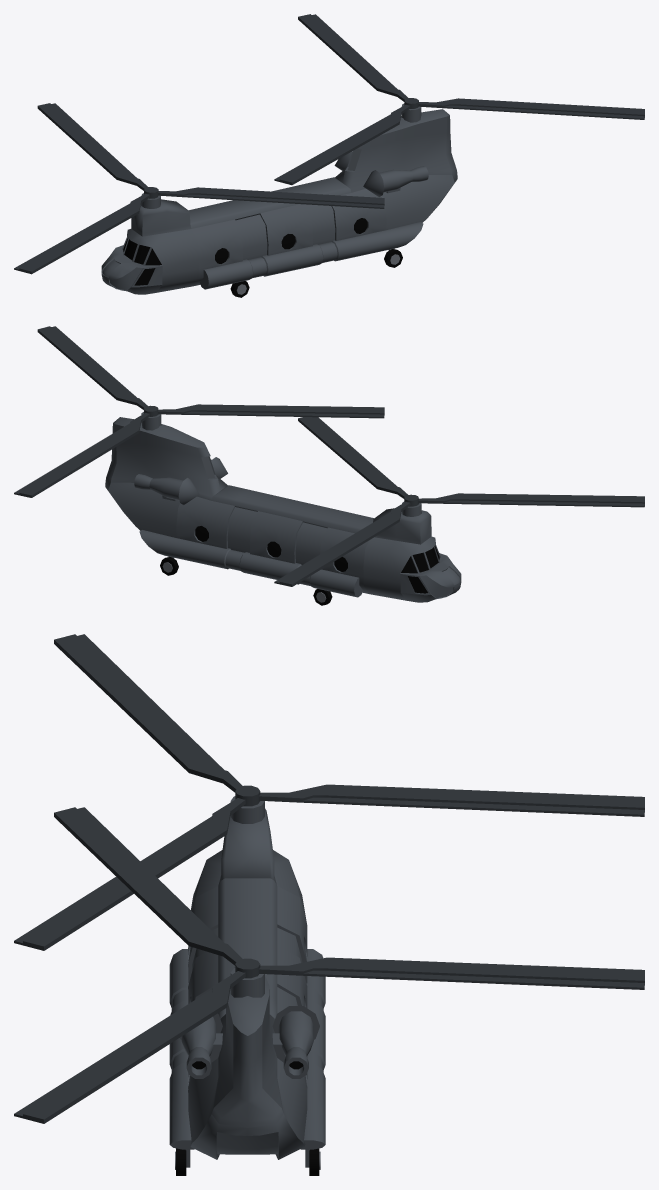
Rendered from helicopter.fbx.
3 renders of one model, top to bottom at view 1: azimuth 30°, elevation 25°; view 2: azimuth 150°, elevation 25°; view 3: azimuth 270°, elevation 25°, orthographic. The views are drawn at different scales.
Parts seen in each view (by area): view 1: Cube.002, Cylinder, Cylinder.003; view 2: Cube.002, Cylinder.003, Cylinder; view 3: Cube.002, Cylinder.003, Cylinder.
Part boxes in pixels (x1,y1,x2,y2): Cube.002: [101, 103, 457, 297]; Cylinder: [14, 103, 384, 274]; Cylinder.003: [274, 14, 644, 185]; Cube.002: [105, 412, 461, 605]; Cylinder.003: [14, 326, 384, 497]; Cylinder: [274, 417, 644, 586]; Cube.002: [169, 796, 325, 1175]; Cylinder.003: [14, 807, 644, 1123]; Cylinder: [14, 634, 644, 950].
Bounding box in the file's own units: 685 × 154 × 355.
